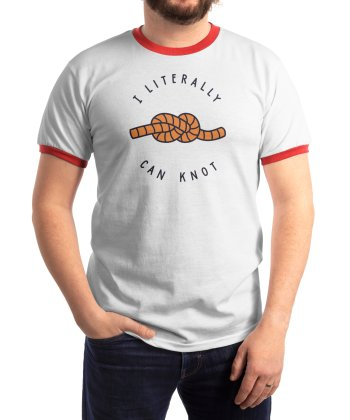design: (125, 71, 228, 185)
